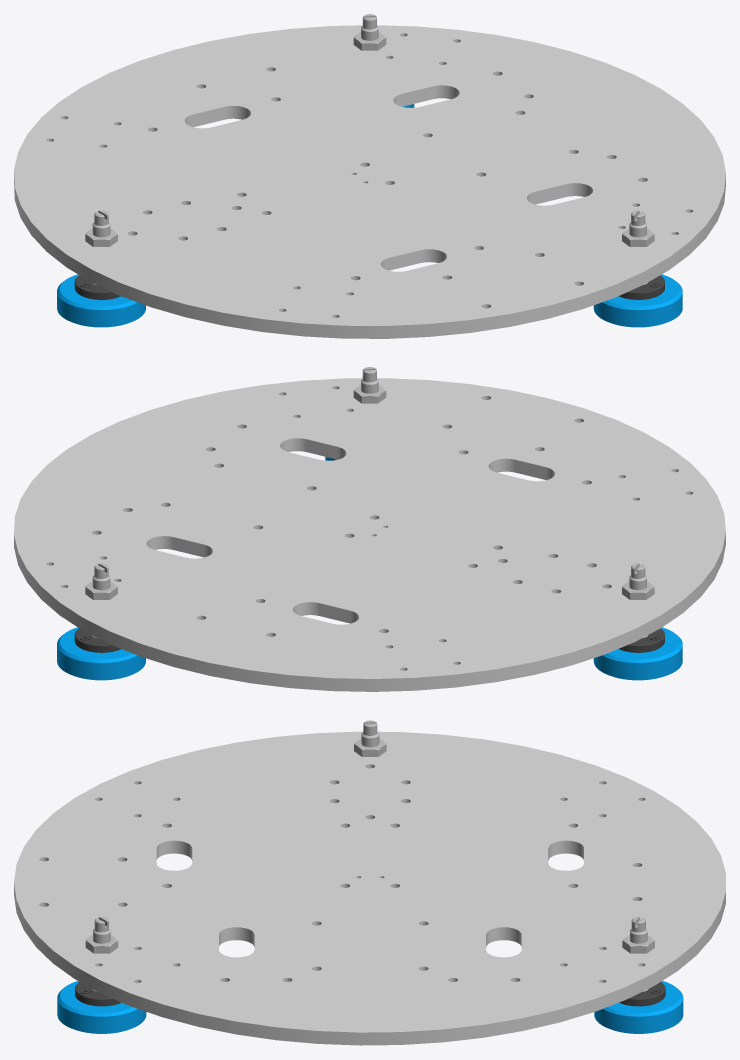
The picture shows the model from 3 angles, top to bottom: view 1: azimuth 30°, elevation 25°; view 2: azimuth 150°, elevation 25°; view 3: azimuth 270°, elevation 25°; orthographic projection.
Parts seen in each view (by area): view 1: alpha3_bottom_plate-1 - Part_clonedChild, S105001.step<1>[2] - Part, S105001step12 - Part 3, S8013S02_S8013S01step-1 - Part 3, S8013S02_S8013S01.step-1 - Part, S8013S02_S8013S01.step-1 - Part_clonedChild, S8013S02_S8013S01step-1 - Part 3_clonedChild; view 2: alpha3_bottom_plate-1 - Part_clonedChild, S105001step12 - Part 2, S105001step12 - Part 3, S8013S02_S8013S01step-1 - Part 2, S8013S02_S8013S01step-1 - Part 3, S8013S02_S8013S01step-1 - Part 3_clonedChild, S8013S02_S8013S01step-1 - Part 2_clonedChild; view 3: alpha3_bottom_plate-1 - Part_clonedChild, S105001step12 - Part 2, S105001.step<1>[2] - Part, S8013S02_S8013S01.step-1 - Part, S8013S02_S8013S01step-1 - Part 2, S8013S02_S8013S01step-1 - Part 2_clonedChild, S8013S02_S8013S01.step-1 - Part_clonedChild.
Part boxes in pixels (<box>): alpha3_bottom_plate-1 - Part_clonedChild: <box>14,25,725,338</box>; S105001.step<1>[2] - Part: <box>593,274,682,326</box>; S105001step12 - Part 3: <box>57,274,145,326</box>; S8013S02_S8013S01step-1 - Part 3: <box>74,275,120,299</box>; S8013S02_S8013S01.step-1 - Part: <box>619,275,664,299</box>; S8013S02_S8013S01.step-1 - Part_clonedChild: <box>619,275,664,299</box>; S8013S02_S8013S01step-1 - Part 3_clonedChild: <box>75,275,119,299</box>; alpha3_bottom_plate-1 - Part_clonedChild: <box>14,378,725,691</box>; S105001step12 - Part 2: <box>57,627,145,679</box>; S105001step12 - Part 3: <box>593,627,682,679</box>; S8013S02_S8013S01step-1 - Part 2: <box>74,628,120,652</box>; S8013S02_S8013S01step-1 - Part 3: <box>619,628,664,652</box>; S8013S02_S8013S01step-1 - Part 3_clonedChild: <box>619,628,664,652</box>; S8013S02_S8013S01step-1 - Part 2_clonedChild: <box>75,628,119,652</box>; alpha3_bottom_plate-1 - Part_clonedChild: <box>14,731,725,1045</box>; S105001step12 - Part 2: <box>594,981,683,1033</box>; S105001.step<1>[2] - Part: <box>57,981,146,1033</box>; S8013S02_S8013S01.step-1 - Part: <box>75,982,121,1006</box>; S8013S02_S8013S01step-1 - Part 2: <box>619,982,665,1006</box>; S8013S02_S8013S01step-1 - Part 2_clonedChild: <box>620,982,665,1005</box>; S8013S02_S8013S01.step-1 - Part_clonedChild: <box>75,982,120,1005</box>.
Bounding box in the file's own units: 0.3998 × 0.0599 × 0.3997.
